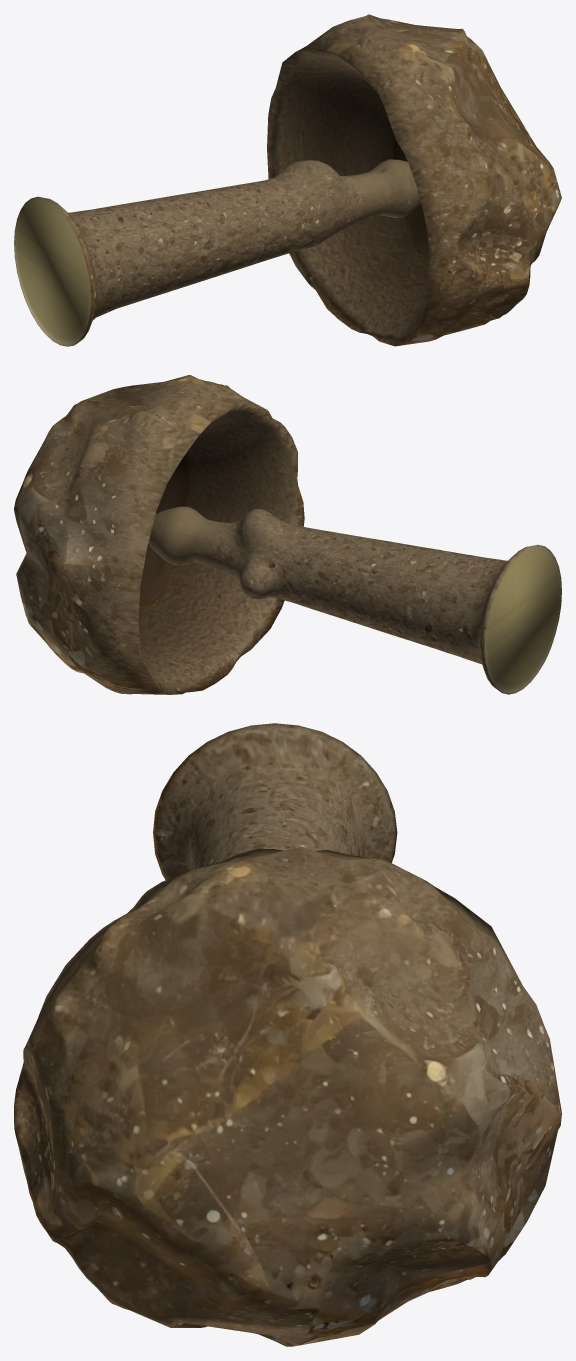
File: q3d-08-mid-l60.glb
The picture shows the model from 3 angles, top to bottom: view 1: azimuth 30°, elevation 25°; view 2: azimuth 150°, elevation 25°; view 3: azimuth 270°, elevation 25°; orthographic projection. The views are drawn at different scales.
Bounding box in the file's own units: 1.35 × 0.7956 × 0.8602.
Materials: 1 (1 with a texture image).
